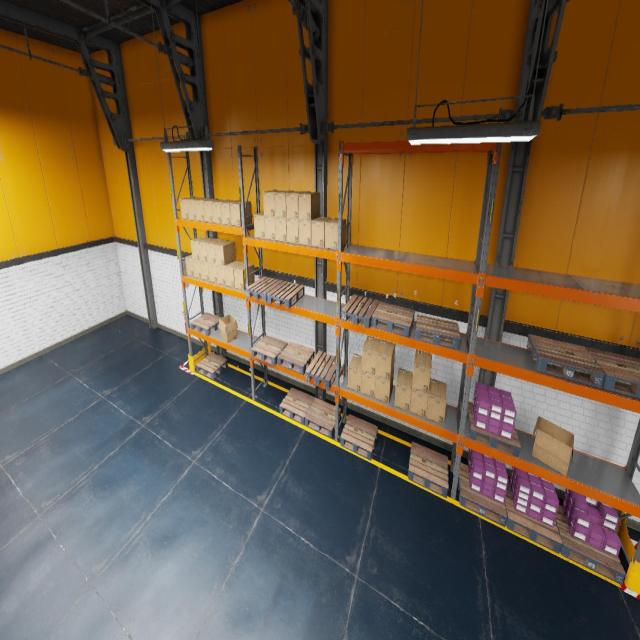box: (532, 416, 574, 476), (412, 349, 432, 394), (427, 378, 446, 425), (394, 368, 413, 411), (376, 340, 395, 380), (362, 336, 381, 375), (374, 367, 394, 403), (324, 218, 346, 250), (311, 217, 332, 248), (298, 191, 320, 220), (286, 190, 307, 218), (274, 190, 295, 218), (218, 314, 238, 343), (410, 386, 428, 418), (214, 240, 236, 265), (230, 201, 252, 226), (348, 353, 362, 392), (263, 190, 284, 216), (234, 263, 254, 290), (206, 239, 226, 264), (220, 200, 240, 225), (212, 199, 232, 224), (225, 261, 244, 287), (203, 199, 224, 222), (198, 238, 218, 262), (195, 198, 215, 221), (187, 198, 207, 220), (180, 197, 199, 219), (191, 237, 209, 260), (361, 371, 375, 398), (286, 218, 298, 244), (299, 220, 311, 246), (275, 217, 287, 242), (253, 212, 264, 238), (264, 216, 275, 240), (216, 264, 226, 285), (185, 255, 194, 277), (192, 259, 202, 278), (208, 263, 217, 283), (200, 261, 209, 281)
pallets: (555, 505, 626, 584), (527, 334, 605, 388), (505, 483, 562, 553), (458, 462, 507, 527), (467, 401, 521, 457), (586, 347, 640, 398), (408, 441, 448, 498), (340, 414, 378, 460), (415, 314, 460, 350), (371, 302, 415, 337), (304, 398, 340, 438), (305, 351, 341, 389), (342, 294, 379, 328), (280, 388, 314, 424), (252, 334, 288, 366), (278, 342, 314, 374), (267, 281, 304, 308), (245, 276, 282, 302), (196, 353, 228, 379), (190, 312, 221, 336)
